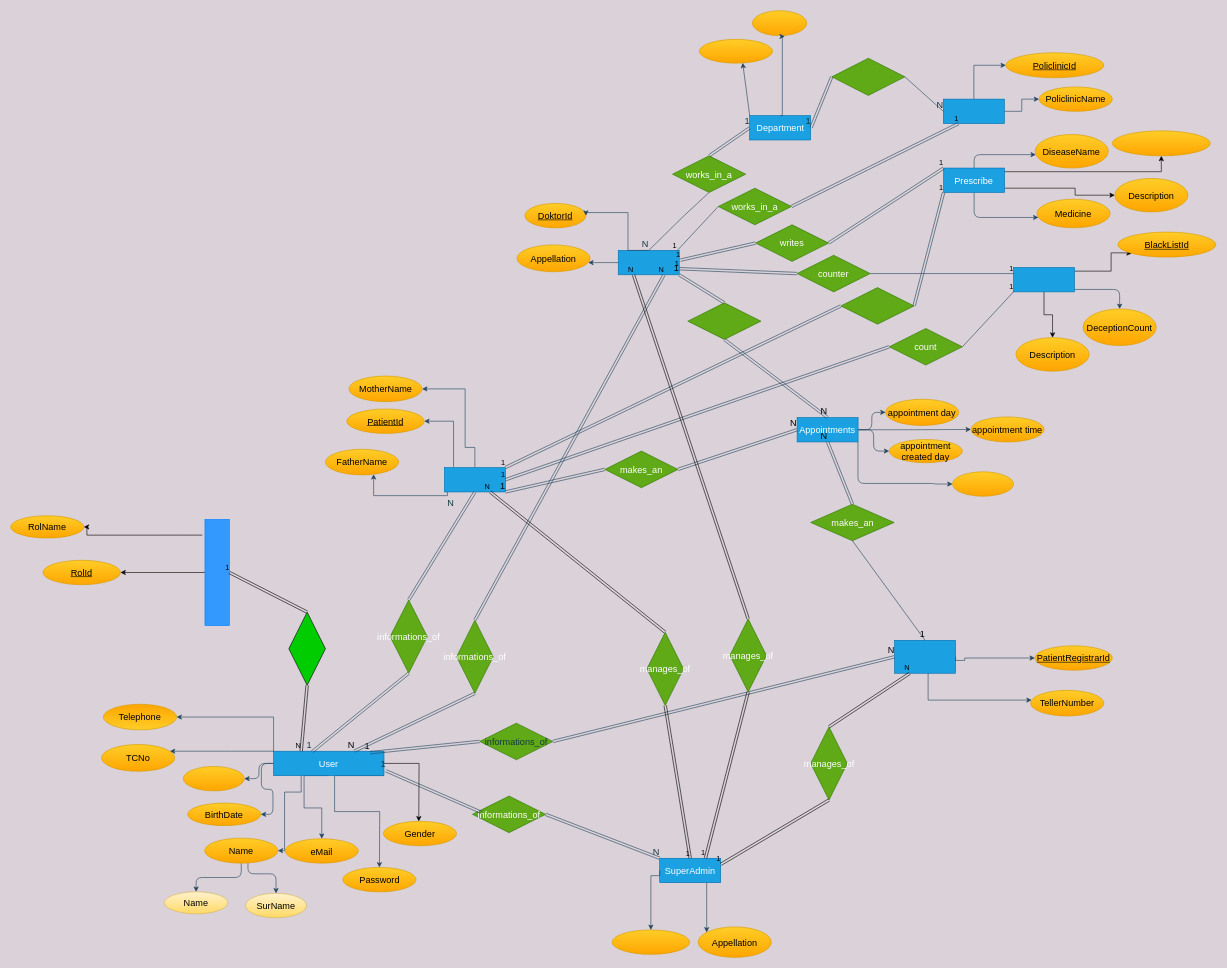
Some shapes in this 1227 by 968 pixel diagram are drawn without their labels. The centre of each missing label's shape, as x and y in pixels:
"appointmentsId" goes at [983,483].
"BlackList" goes at [1044,279].
"DepartmanId" goes at [779,23].
"DepartmanName" goes at [736,51].
"doctor" goes at [648,262].
"has_more_than_one" goes at [868,76].
"look_at_mutiple" goes at [724,320].
"Patient" goes at [474,479].
"PatientRegistrar" goes at [925,656].
"Policlinic" goes at [973,111].
"PrescribeId" goes at [1161,143].
"Rol" goes at [216,572].
"SuperAdminId" goes at [651,941].
"taken_by" goes at [877,305].
"user_for" goes at [306,648].
"UserId" goes at [213,778].
